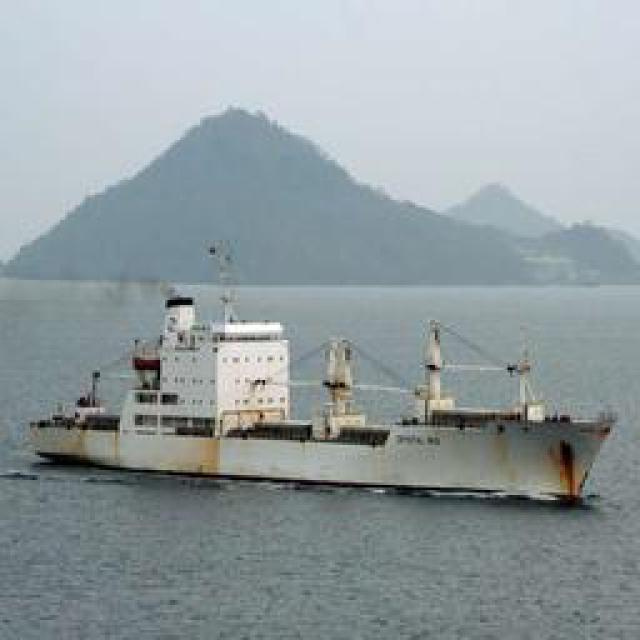Ship: (22, 237, 627, 511)
